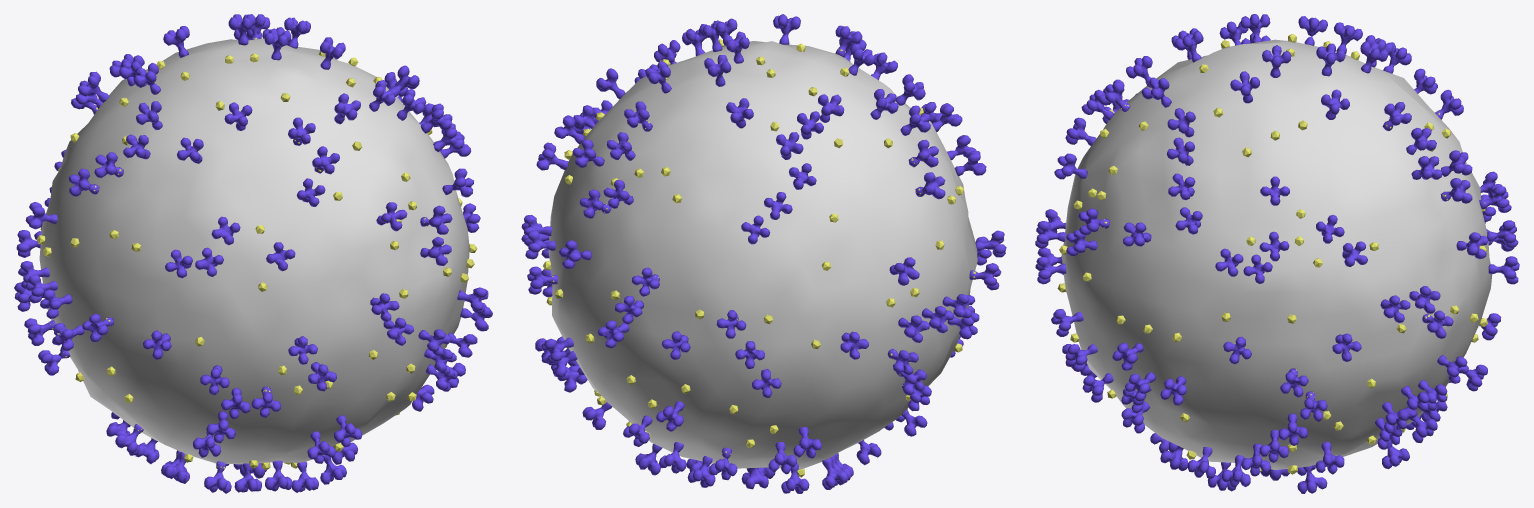
File: CoronaVirus_-6.fbx
3 views of the same model, side by side, from view 1: azimuth 30°, elevation 25°; view 2: azimuth 150°, elevation 25°; view 3: azimuth 270°, elevation 25° (orthographic).
Parts seen in each view (by area): view 1: Corona; view 2: Corona; view 3: Corona.
Boxes of the visible parts, bbox=[...] form: Corona: bbox=[14, 14, 492, 493]; Corona: bbox=[521, 14, 1006, 493]; Corona: bbox=[1035, 14, 1519, 493].
Size of what is drawn, in the model's own units: 14.33 by 14.24 by 14.29.
